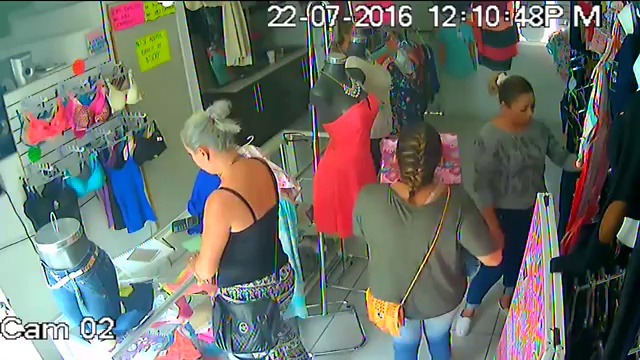face: (511, 96, 535, 123)
